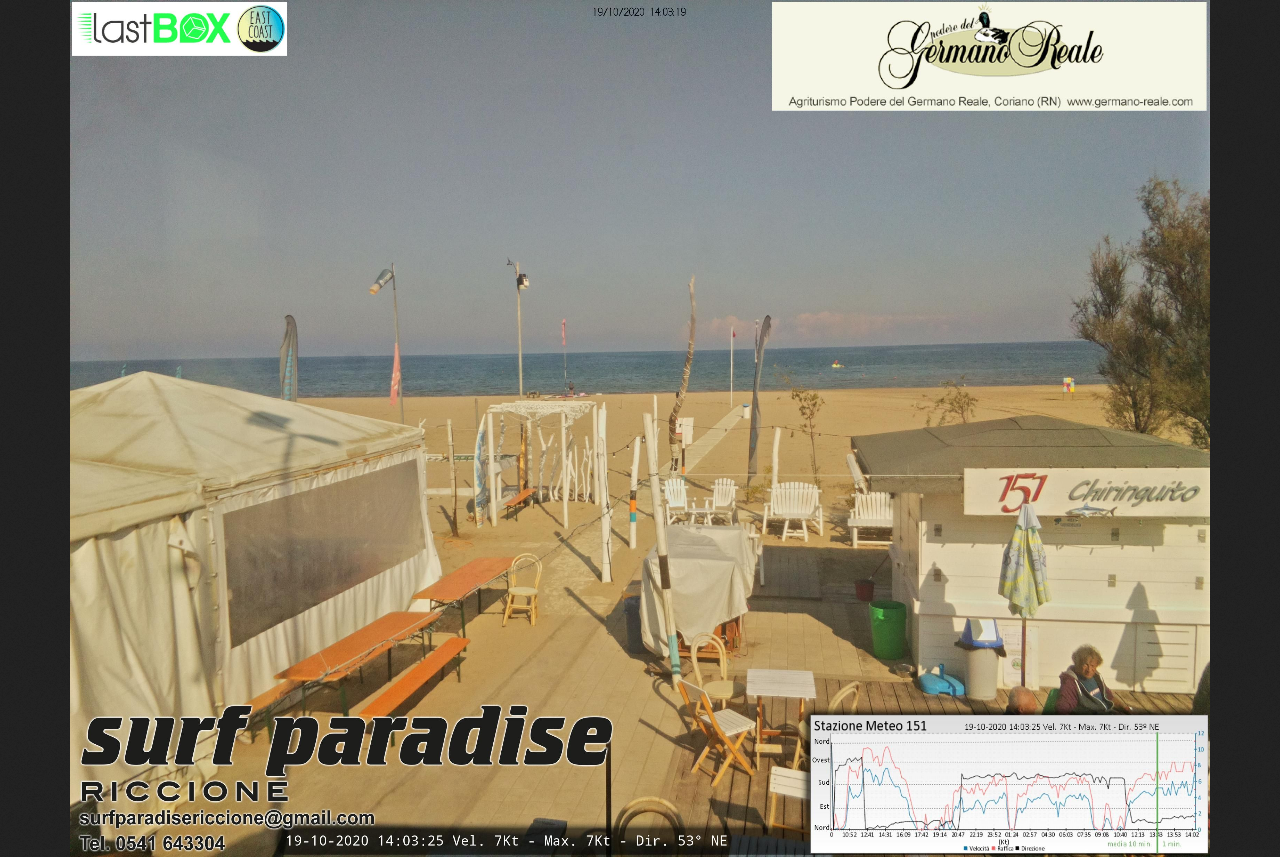no: (731, 324, 738, 340)
